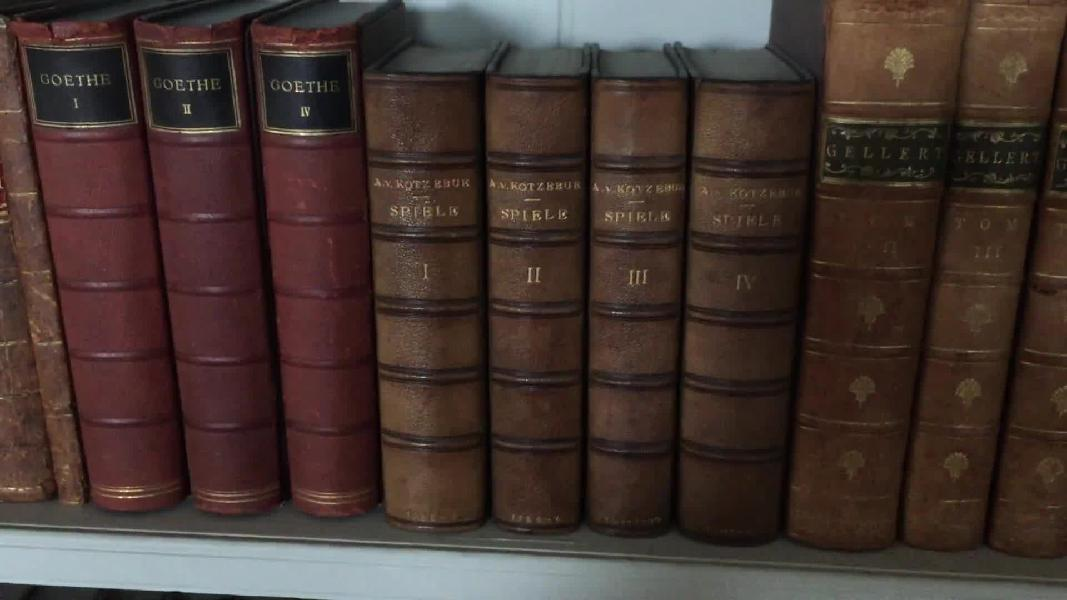Aa6-11_13: (5, 15, 377, 520)
Aa6-14_17: (356, 71, 806, 552)
